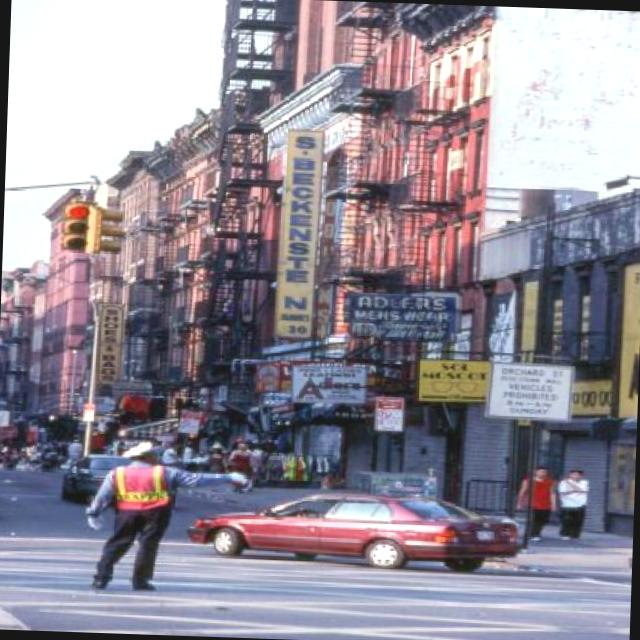Person: (85, 439, 252, 596), (148, 436, 264, 478), (512, 466, 561, 543), (550, 466, 592, 541)
